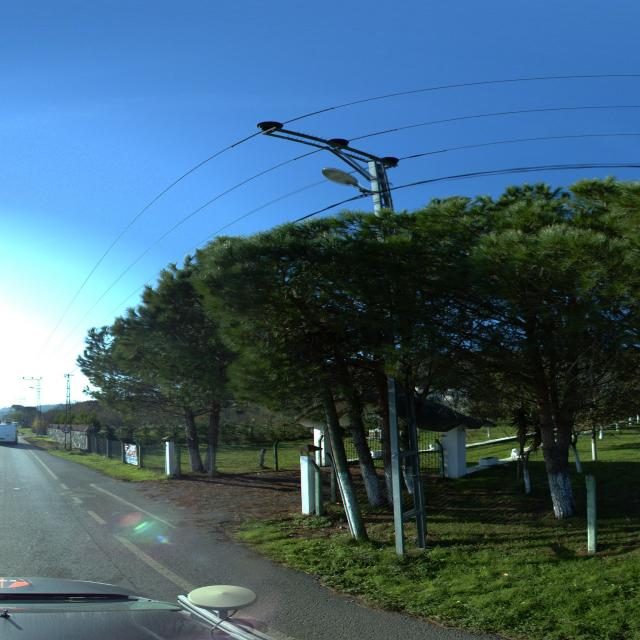Utility Pole Information Plate: (385, 364, 395, 374)
